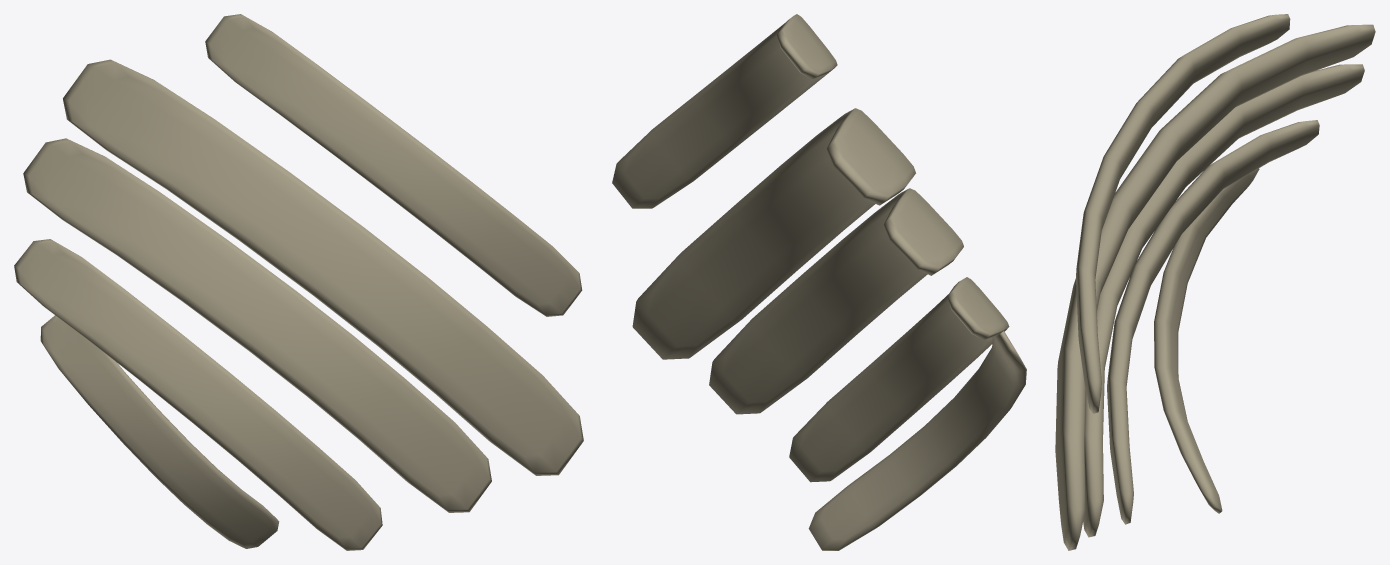
Rendered from RibBone.fbx.
3 views of the same model, side by side, from view 1: azimuth 30°, elevation 25°; view 2: azimuth 150°, elevation 25°; view 3: azimuth 270°, elevation 25° (orthographic). The views are drawn at different scales.
Parts seen in each view (by area): view 1: Rib5; view 2: Rib5; view 3: Rib5.
Part boxes in pixels (box(x1,y1,x2,y2)): Rib5: box(14, 14, 583, 550); Rib5: box(612, 14, 1026, 550); Rib5: box(1055, 14, 1375, 550).
Bounding box in the file's own units: 71.05 × 74.76 × 43.02.
